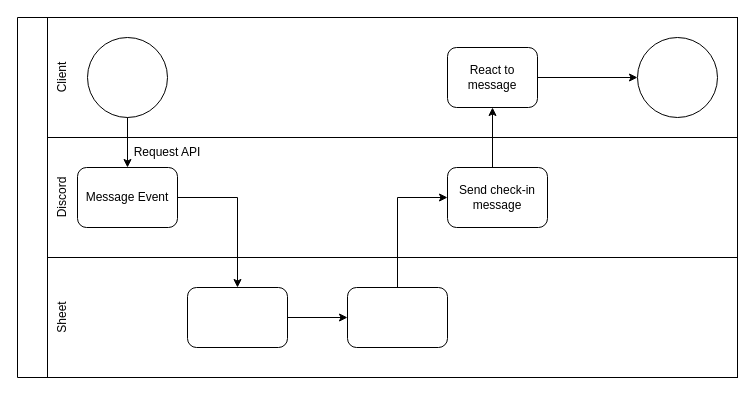
The diagram is 755 pixels wide and 395 high, and some of its shapes have lost their labels. The shapes that lost their labels are listed below. From the top down, each one's centre as x and y in pixels, then its label:
At point 237,317: "Connect to sheet".
At point 397,317: "Get current message".
